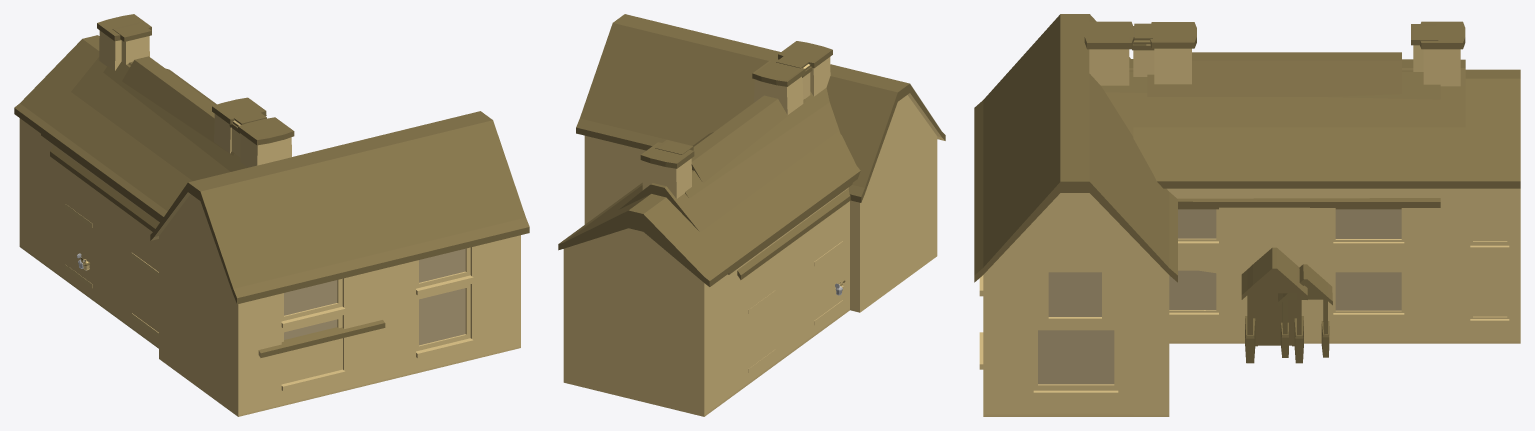
3 views of the same model, side by side, from view 1: azimuth 30°, elevation 25°; view 2: azimuth 150°, elevation 25°; view 3: azimuth 270°, elevation 25° (orthographic). The views are drawn at different scales.
Visible parts, largest first — view 1: House3, House4, House2, House1; view 2: House4, House3, House2, House1; view 3: House4, House3, House2, House1.
Boxes of the visible parts, x1,y1,x2,y2 form: House3: (50, 22, 529, 416); House4: (14, 35, 385, 384); House2: (41, 14, 294, 221); House1: (122, 56, 266, 155); House4: (558, 56, 860, 416); House3: (576, 14, 945, 372); House2: (619, 41, 852, 274); House1: (691, 60, 805, 183); House4: (1132, 23, 1520, 363); House3: (974, 14, 1440, 416); House2: (1084, 21, 1465, 136); House1: (1147, 22, 1401, 209).
Bounding box in the file's own units: 18.14 × 12.51 × 22.92.
2 materials, 1 textured.
